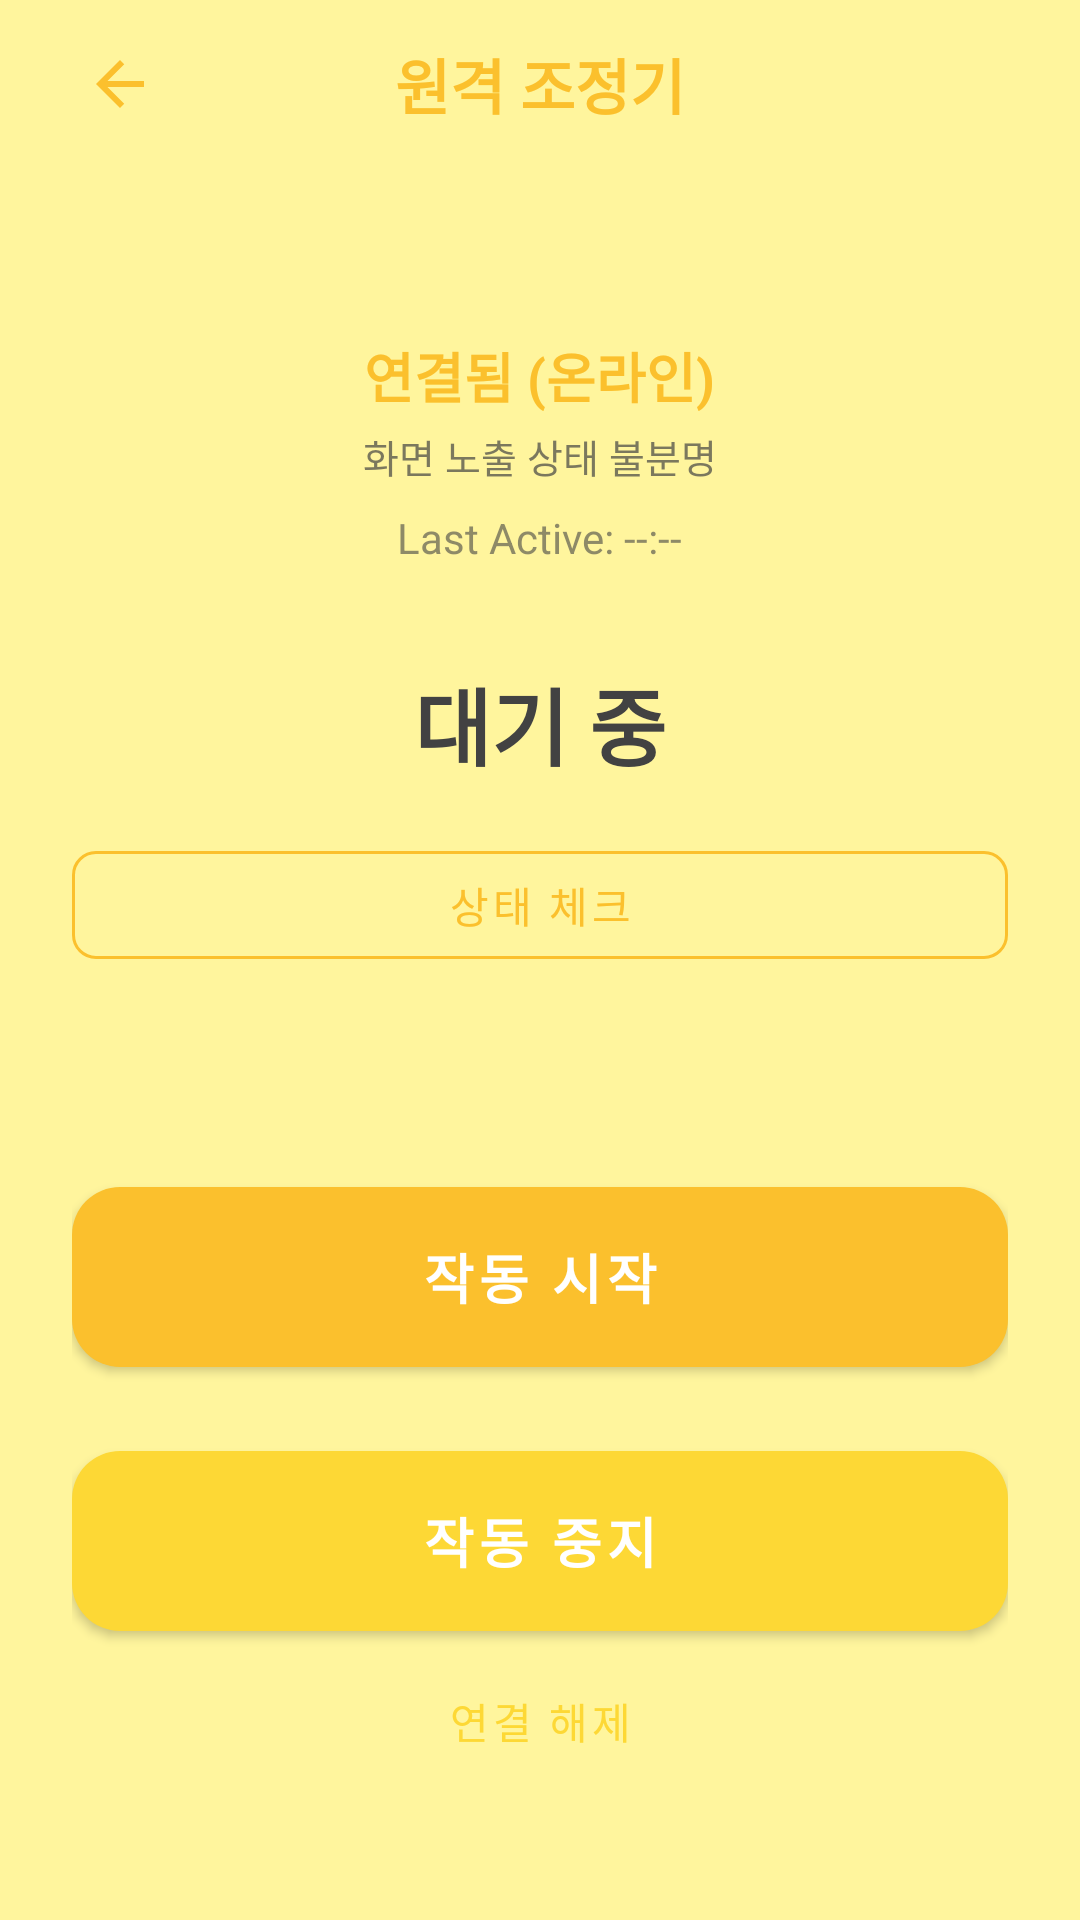

Icon bounding boxes for this 1080px×1920px phone screenshot, format bbox=(x1, y1, x2, y2):
뒤로가기: bbox=(96, 60, 144, 108)
